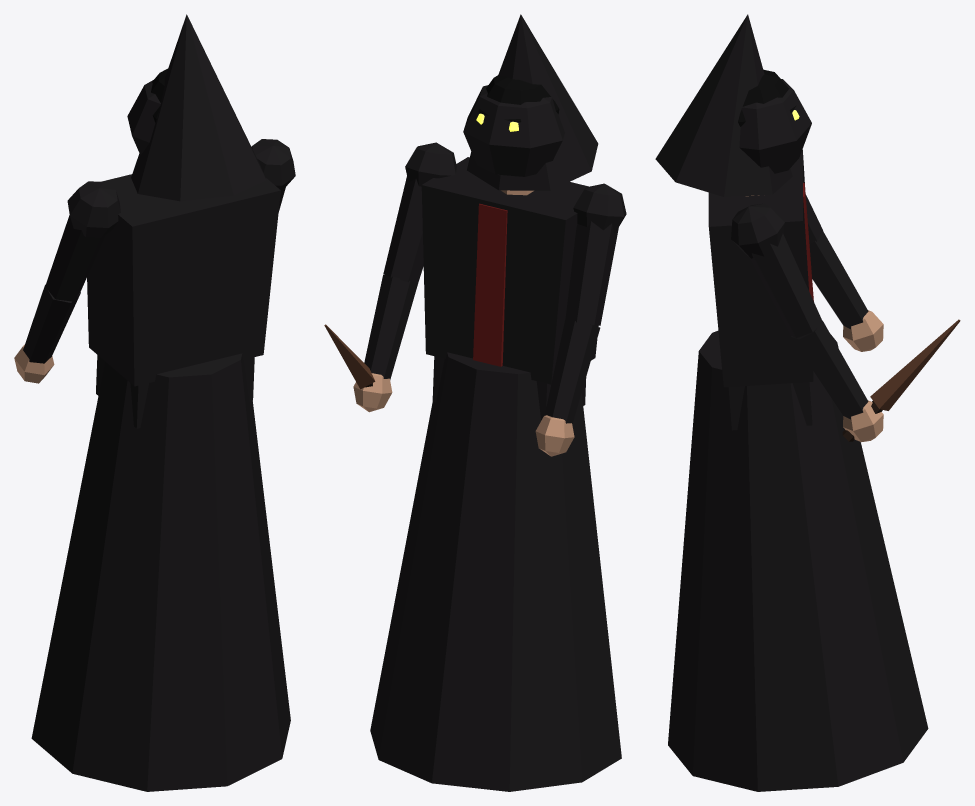
The model's file is cultist.glb.
3 renders of one model, left to right at view 1: azimuth 30°, elevation 25°; view 2: azimuth 150°, elevation 25°; view 3: azimuth 270°, elevation 25°, orthographic. The views are drawn at different scales.
Parts seen in each view (by area): view 1: torso, head, arm_l, arm_r; view 2: torso, head, arm_l, arm_r, weapon; view 3: torso, head, arm_r, arm_l, weapon.
Boxes of the visible parts, x1,y1,x2,y2 form: torso: (31,174,290,791); head: (127,14,266,201); arm_l: (14,181,120,383); arm_r: (251,139,295,211); torso: (370,157,621,791); head: (463,14,598,195); arm_l: (535,183,626,456); arm_r: (353,142,456,412); weapon: (324,324,375,389); torso: (668,149,928,791); head: (655,14,811,196); arm_r: (731,203,883,442); arm_l: (805,194,883,351); weapon: (842,319,960,441).
Size of the model in its own units: 0.6403 by 2.03 by 0.7686.
